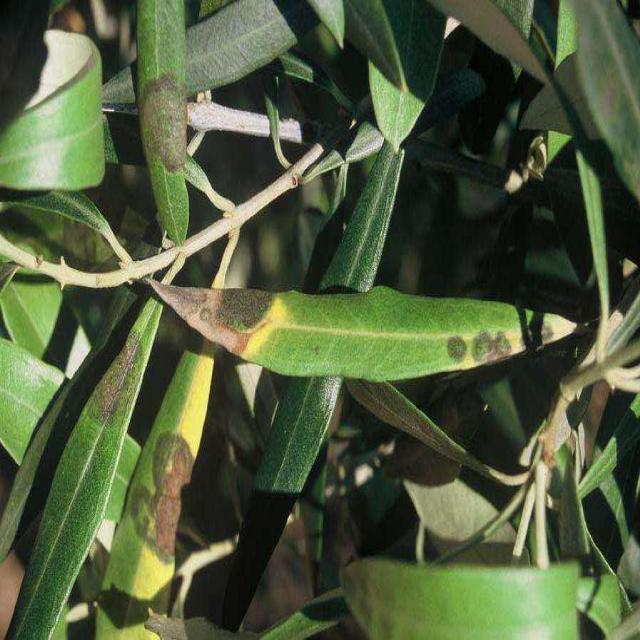Peacock Eye: (6, 299, 161, 639), (146, 280, 525, 380), (97, 352, 213, 639), (136, 0, 188, 244)
